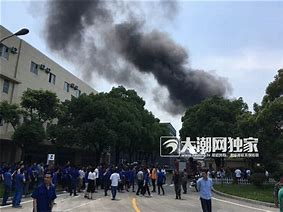smoke: (112, 19, 214, 103)
